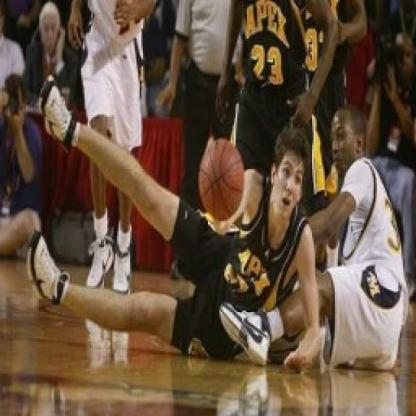basketball: (195, 135, 248, 224)
